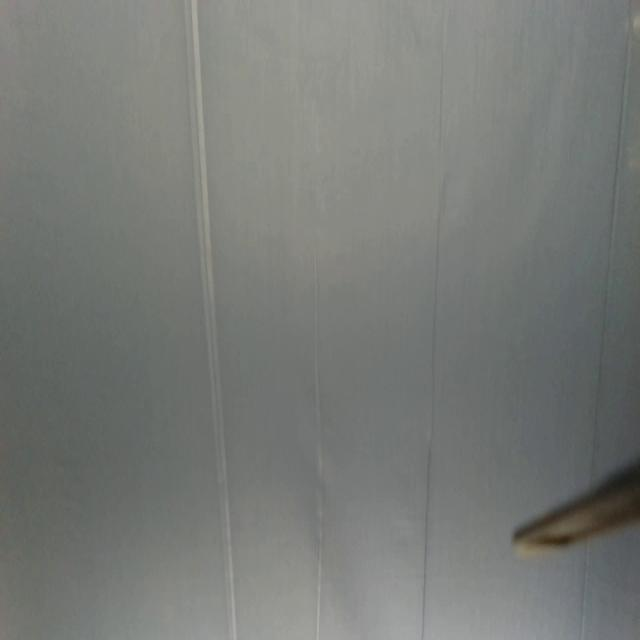crease: (183, 0, 237, 640), (589, 0, 639, 464), (422, 5, 448, 639), (312, 244, 329, 640), (575, 546, 595, 640)
